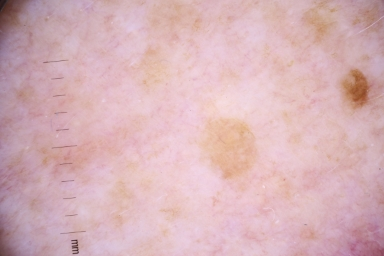melanoma: (204, 120, 257, 180), (341, 69, 369, 107)
